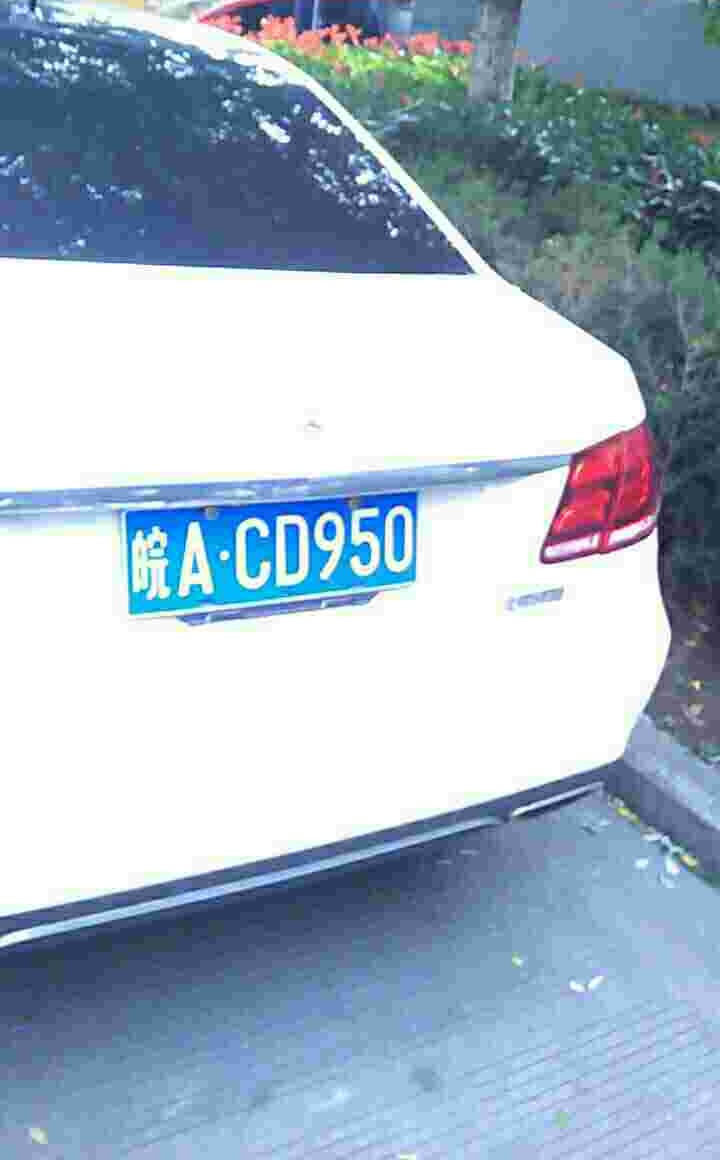license_plate: (123, 482, 422, 628)
